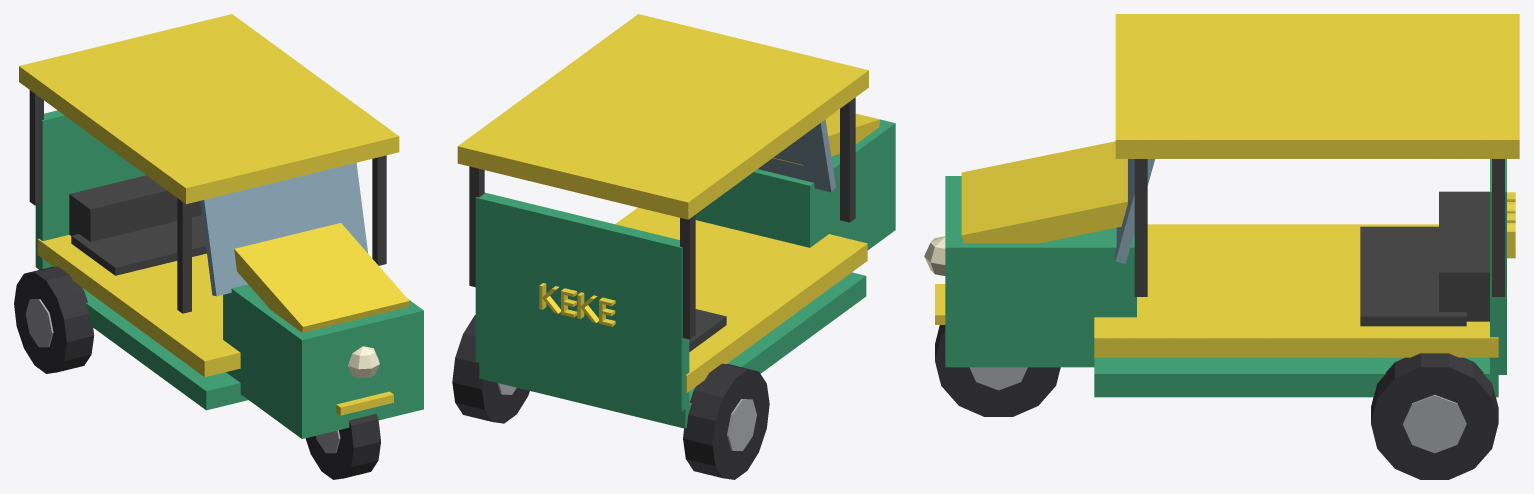
The model's file is VH_KekeNapep.glb.
3 views of the same model, side by side, from view 1: azimuth 30°, elevation 25°; view 2: azimuth 150°, elevation 25°; view 3: azimuth 270°, elevation 25° (orthographic). The views are drawn at different scales.
Visible parts, largest first — view 1: VH_KekeNapep; view 2: VH_KekeNapep; view 3: VH_KekeNapep.
Boxes of the visible parts, <box> form: VH_KekeNapep: <box>14,14,423,479</box>; VH_KekeNapep: <box>452,14,895,479</box>; VH_KekeNapep: <box>924,14,1519,479</box>.
Bounding box in the file's own units: 1.6 × 1.72 × 2.8.
